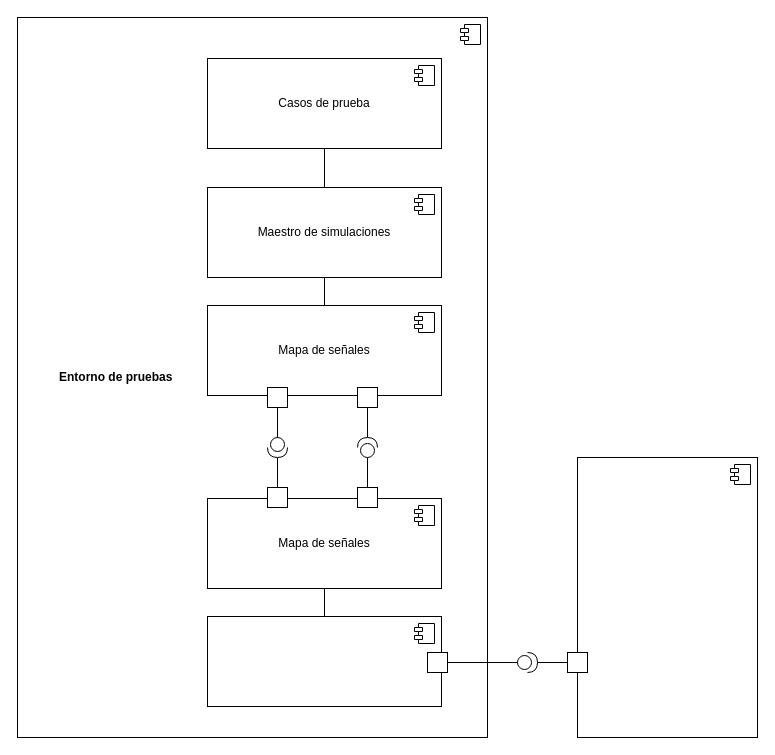
Some shapes in this 775 by 755 pixel diagram are drawn without their labels. Here are the shapes that lost their labels. From the top down, the box of each, then its label:
(576, 456, 758, 738): ISNAV
(206, 616, 442, 706): Simuladores
